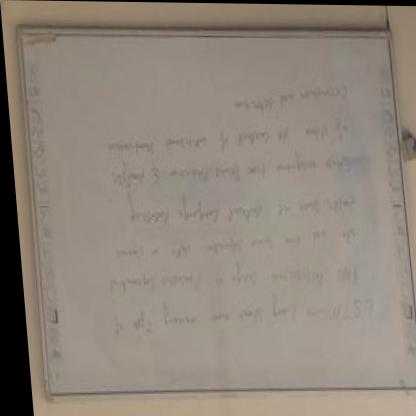Handwritten text: (94, 291, 378, 348), (95, 257, 364, 300), (97, 117, 355, 159), (106, 221, 356, 261), (119, 187, 356, 227), (107, 159, 347, 187), (224, 71, 351, 117)
